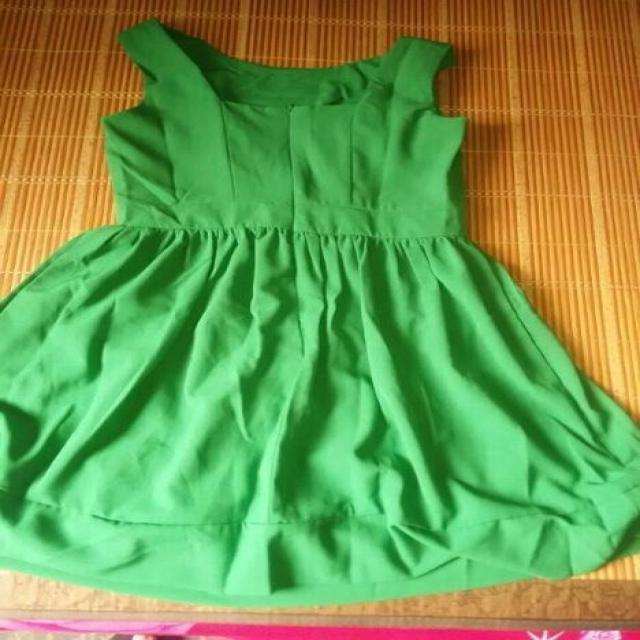short-sleeve-dress: (82, 22, 624, 596)
